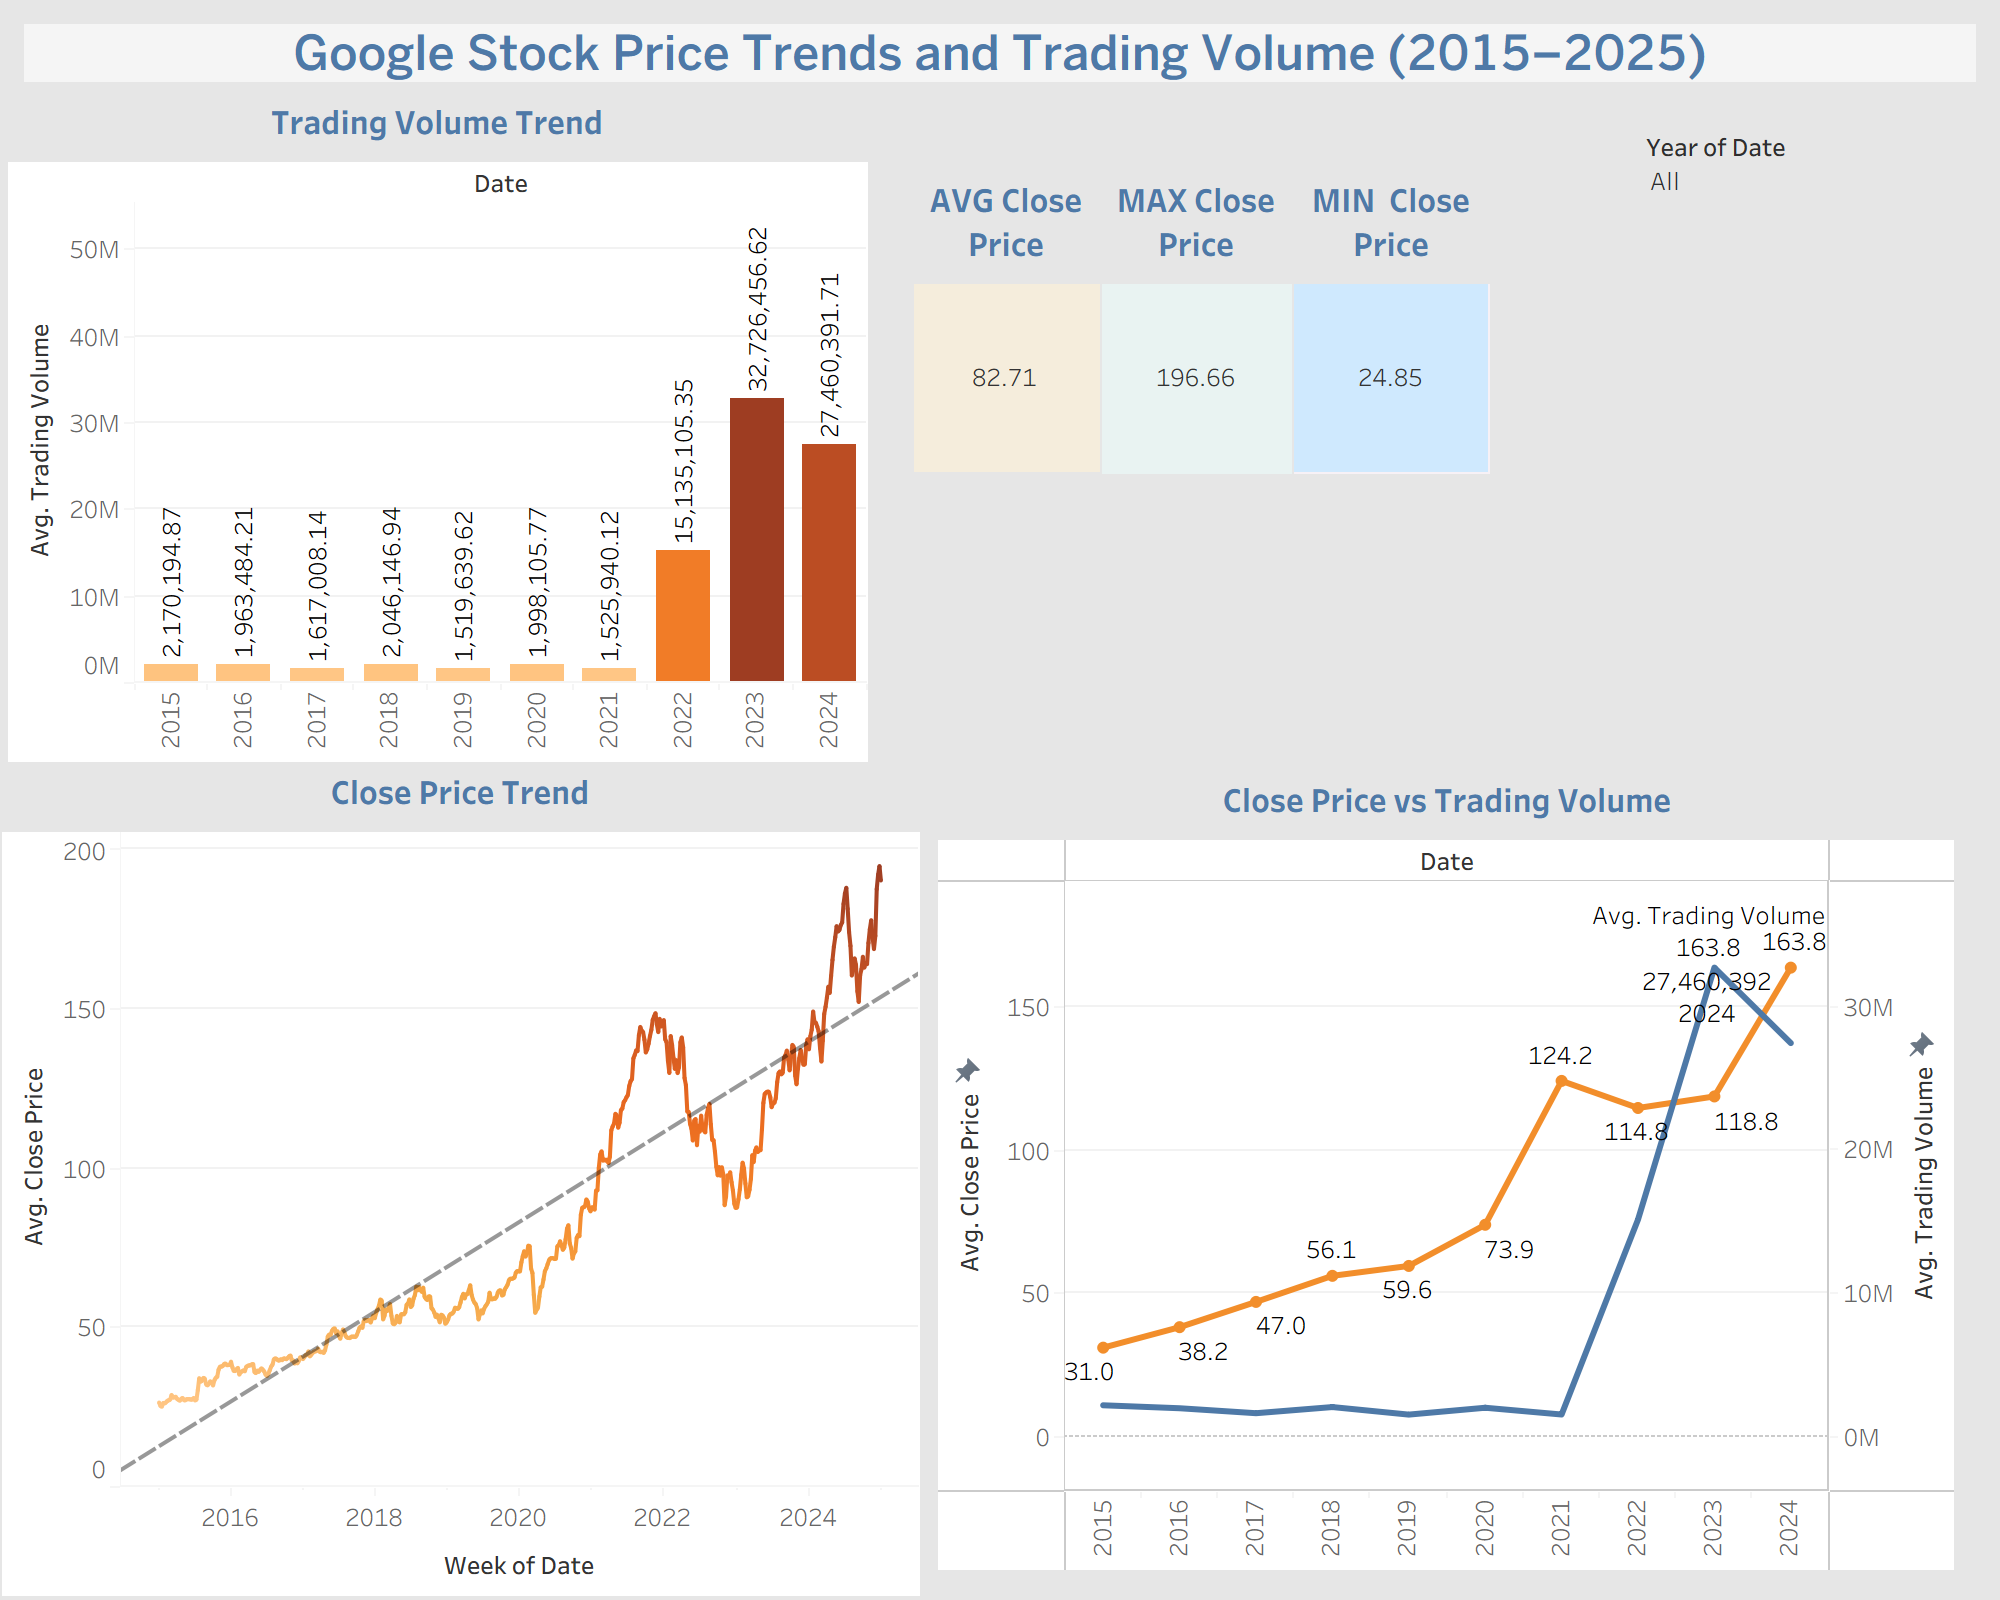

What the dashboard file says about the page in this screenshot:
{"tool":"tableau","page":{"name":"Dashboard 1","canvas":[1000,800],"ordinal":0},"visuals":[{"type":"title","box":[8,8,984,37]},{"type":"worksheet","title":"Trading Volume Trend","mark":"Bar","rows":["Volume"],"cols":["Date"],"box":[3.7,44.2,428.6,336.9]},{"type":"filter","title":"Closing Price vs Trading Volume","param":"[federated.0cw04ok078ysvp1btiw9501lv9uz].[yr:Date:ok]","box":[819,60,160,234]},{"type":"worksheet","title":"Average Closing price ","mark":"Automatic","box":[456.9,82.8,91.8,152.5]},{"type":"worksheet","title":"Max Closing Price ","mark":"Automatic","box":[551.1,82.8,93.6,153.4]},{"type":"worksheet","title":"Min Closing Price ","mark":"Automatic","box":[647.2,82.8,96.7,153.4]},{"type":"worksheet","title":"Close Price Trend","mark":"Automatic","rows":["Close"],"cols":["Date"],"box":[1.2,379.3,458.1,418.8]},{"type":"worksheet","title":"Closing Price vs Trading Volume","mark":"Automatic","rows":["Close","Volume"],"cols":["Date"],"box":[469.2,383.1,508.6,402.8]}]}

Visuals, with their boxes in screenshot pixels (x1, y1, x2, y2), scaled from the page's 1000x800 canvas onto the 2000x1600 screenshot:
title: detection(16, 16, 1984, 90)
"Trading Volume Trend" worksheet (Bar marks): detection(7, 88, 865, 762)
"Closing Price vs Trading Volume" filter: detection(1638, 120, 1958, 588)
"Average Closing price " worksheet: detection(914, 166, 1097, 471)
"Max Closing Price " worksheet: detection(1102, 166, 1289, 472)
"Min Closing Price " worksheet: detection(1294, 166, 1488, 472)
"Close Price Trend" worksheet: detection(2, 759, 919, 1596)
"Closing Price vs Trading Volume" worksheet: detection(938, 766, 1956, 1572)
